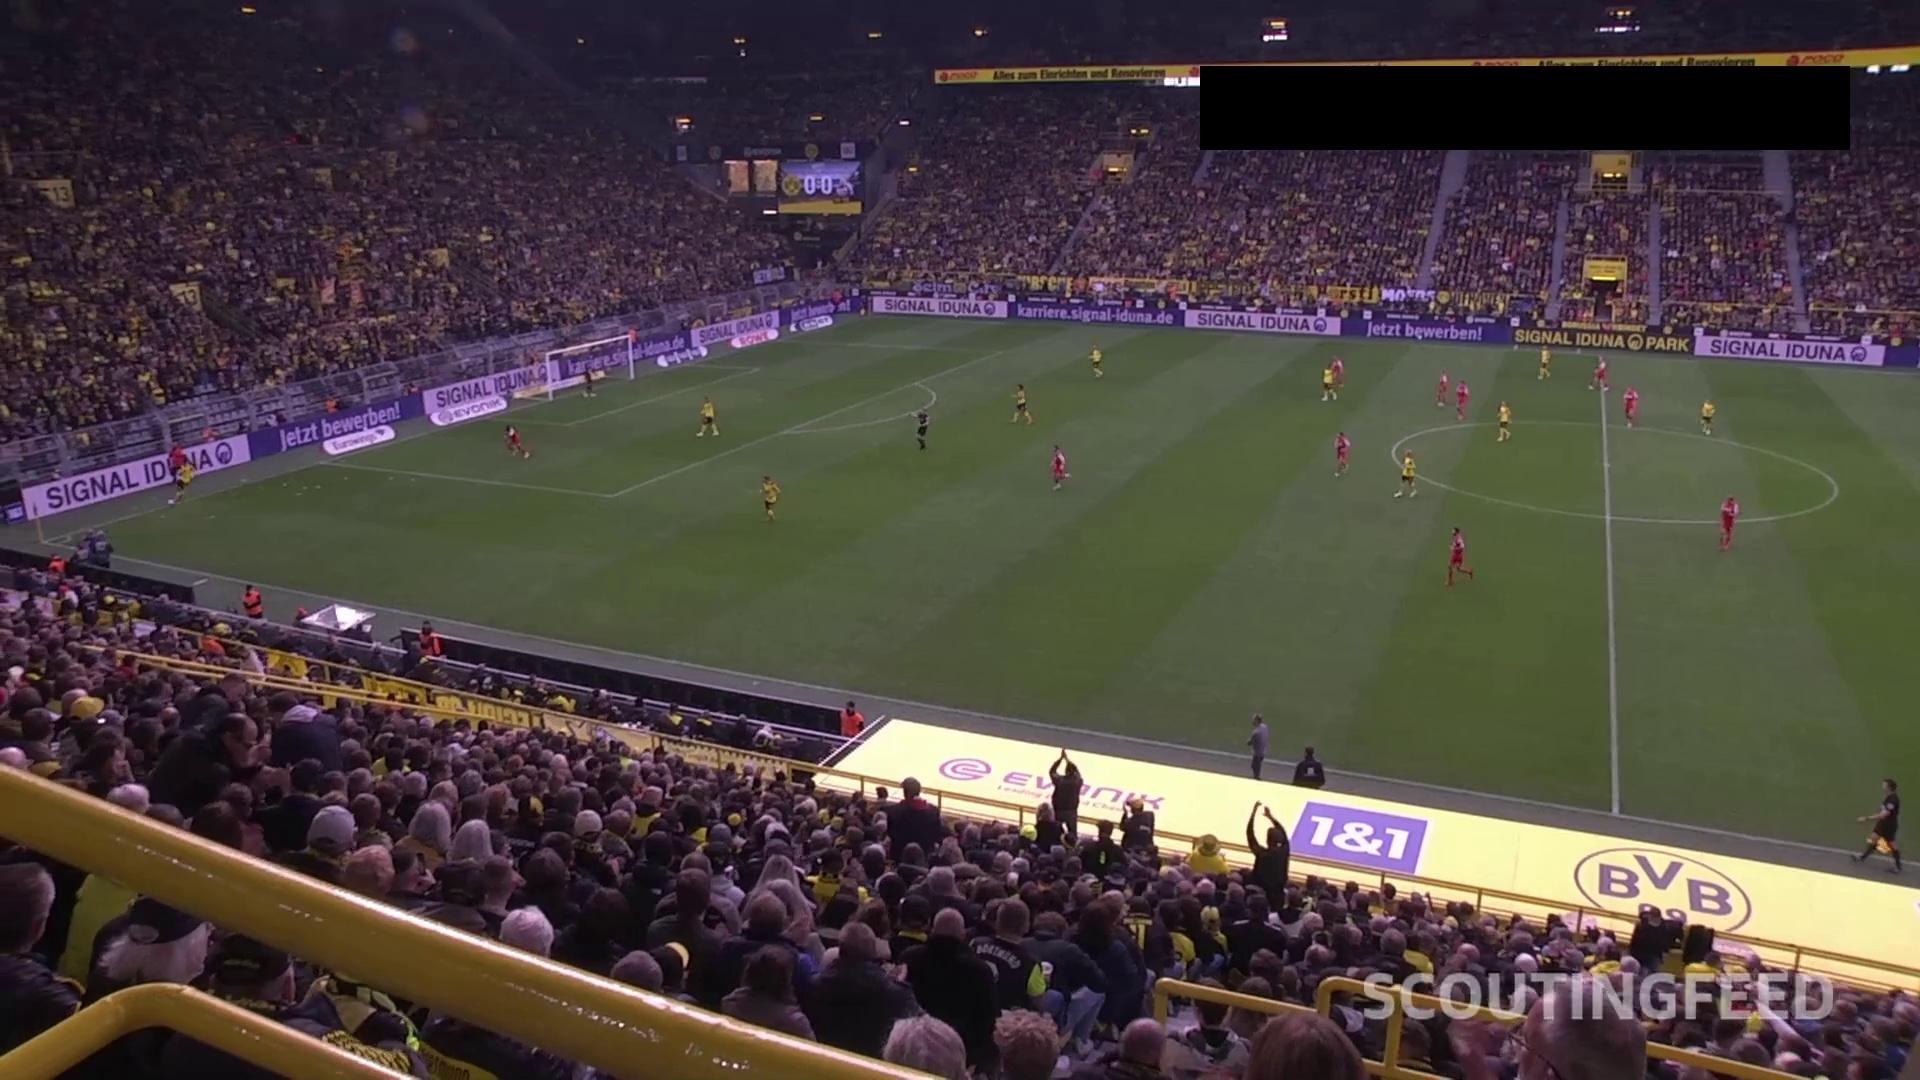Location-of-ball: (154, 488, 182, 513)
